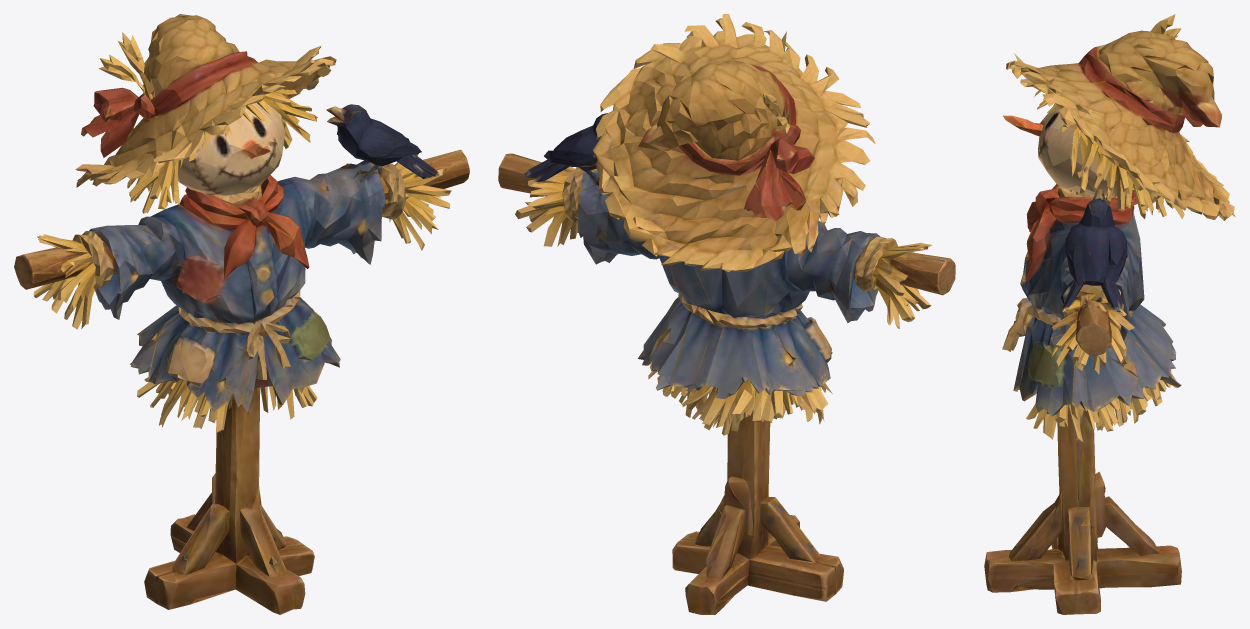
Rendered from prop_scarecrow.glb.
3 renders of one model, left to right at view 1: azimuth 30°, elevation 25°; view 2: azimuth 150°, elevation 25°; view 3: azimuth 270°, elevation 25°, orthographic.
Parts seen in each view (by area): view 1: output_unwrapped; view 2: output_unwrapped; view 3: output_unwrapped.
Part boxes in pixels (bbox=[...]): output_unwrapped: bbox=[14, 14, 469, 614]; output_unwrapped: bbox=[498, 14, 955, 614]; output_unwrapped: bbox=[984, 14, 1235, 614].
Size of the model in its own units: 1.63 by 1.9 by 0.8.
Materials: 1 (1 with a texture image).
